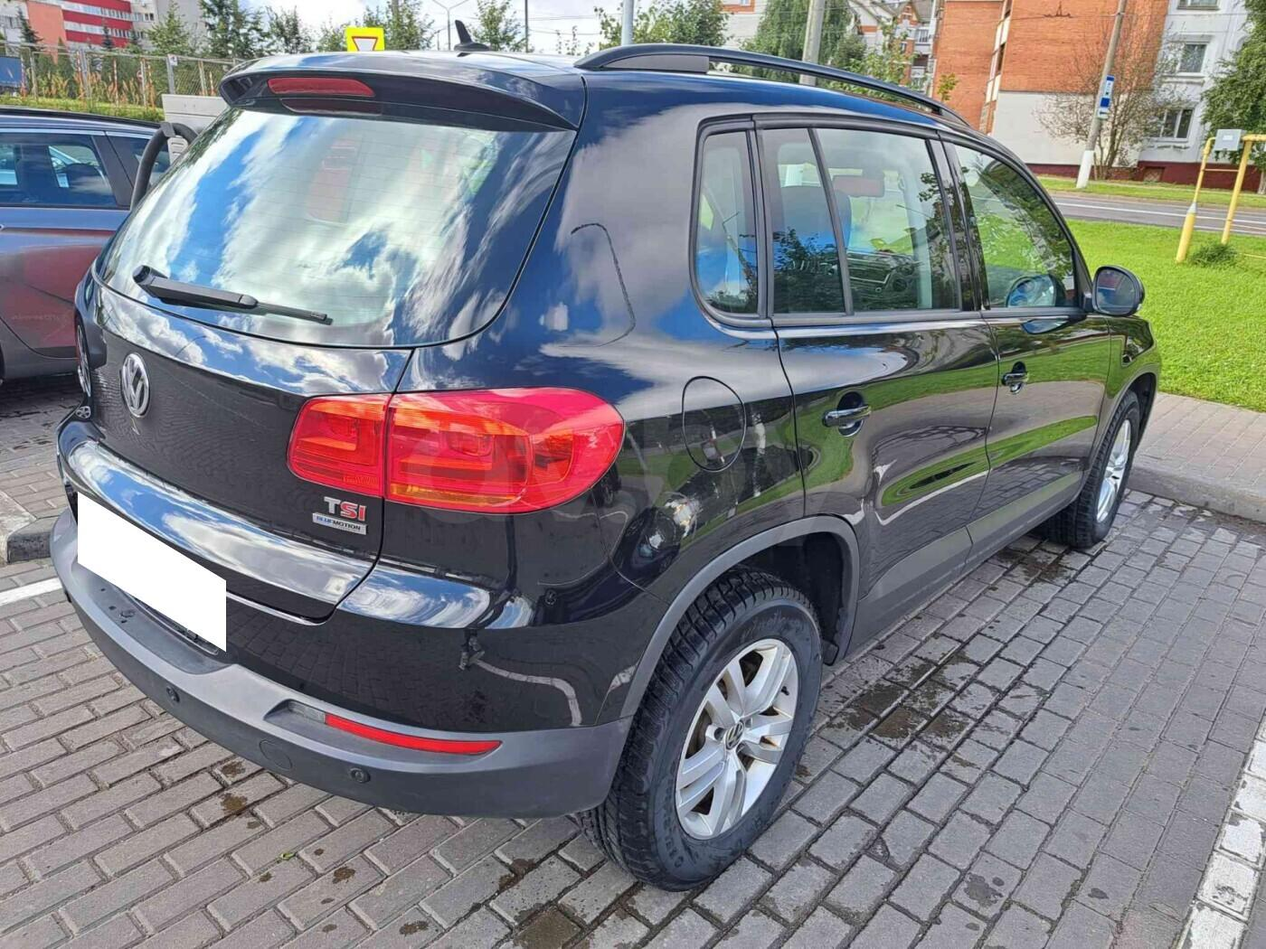Tiguan_2011-2018: (45, 41, 1172, 874)
